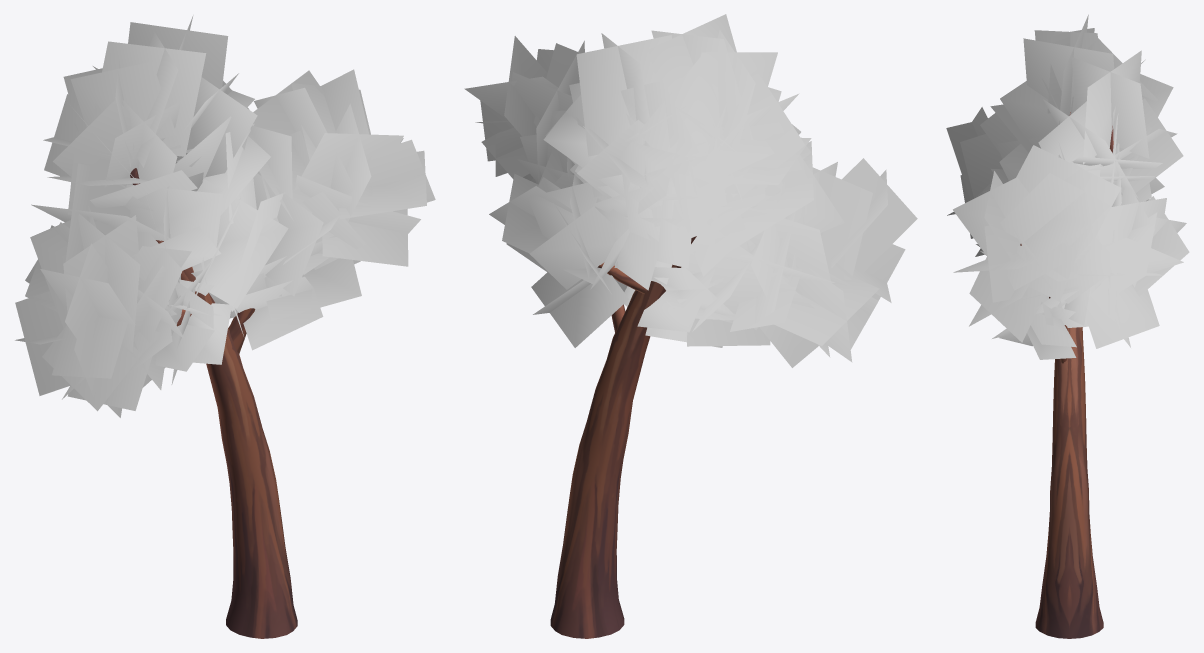
The model's file is Tree_02_B.fbx.
The picture shows the model from 3 angles, left to right: view 1: azimuth 30°, elevation 25°; view 2: azimuth 150°, elevation 25°; view 3: azimuth 270°, elevation 25°; orthographic projection. The views are drawn at different scales.
Parts seen in each view (by area): view 1: leave_b314, Object036; view 2: leave_b314, Object036; view 3: leave_b314, Object036.
Boxes of the visible parts, x1,y1,x2,y2 form: leave_b314: (15, 15, 435, 417); Object036: (130, 168, 297, 638); leave_b314: (464, 14, 917, 367); Object036: (550, 236, 696, 638); leave_b314: (946, 14, 1189, 359); Object036: (1020, 112, 1113, 638).
Bounding box in the file's own units: 382 × 566 × 228.
